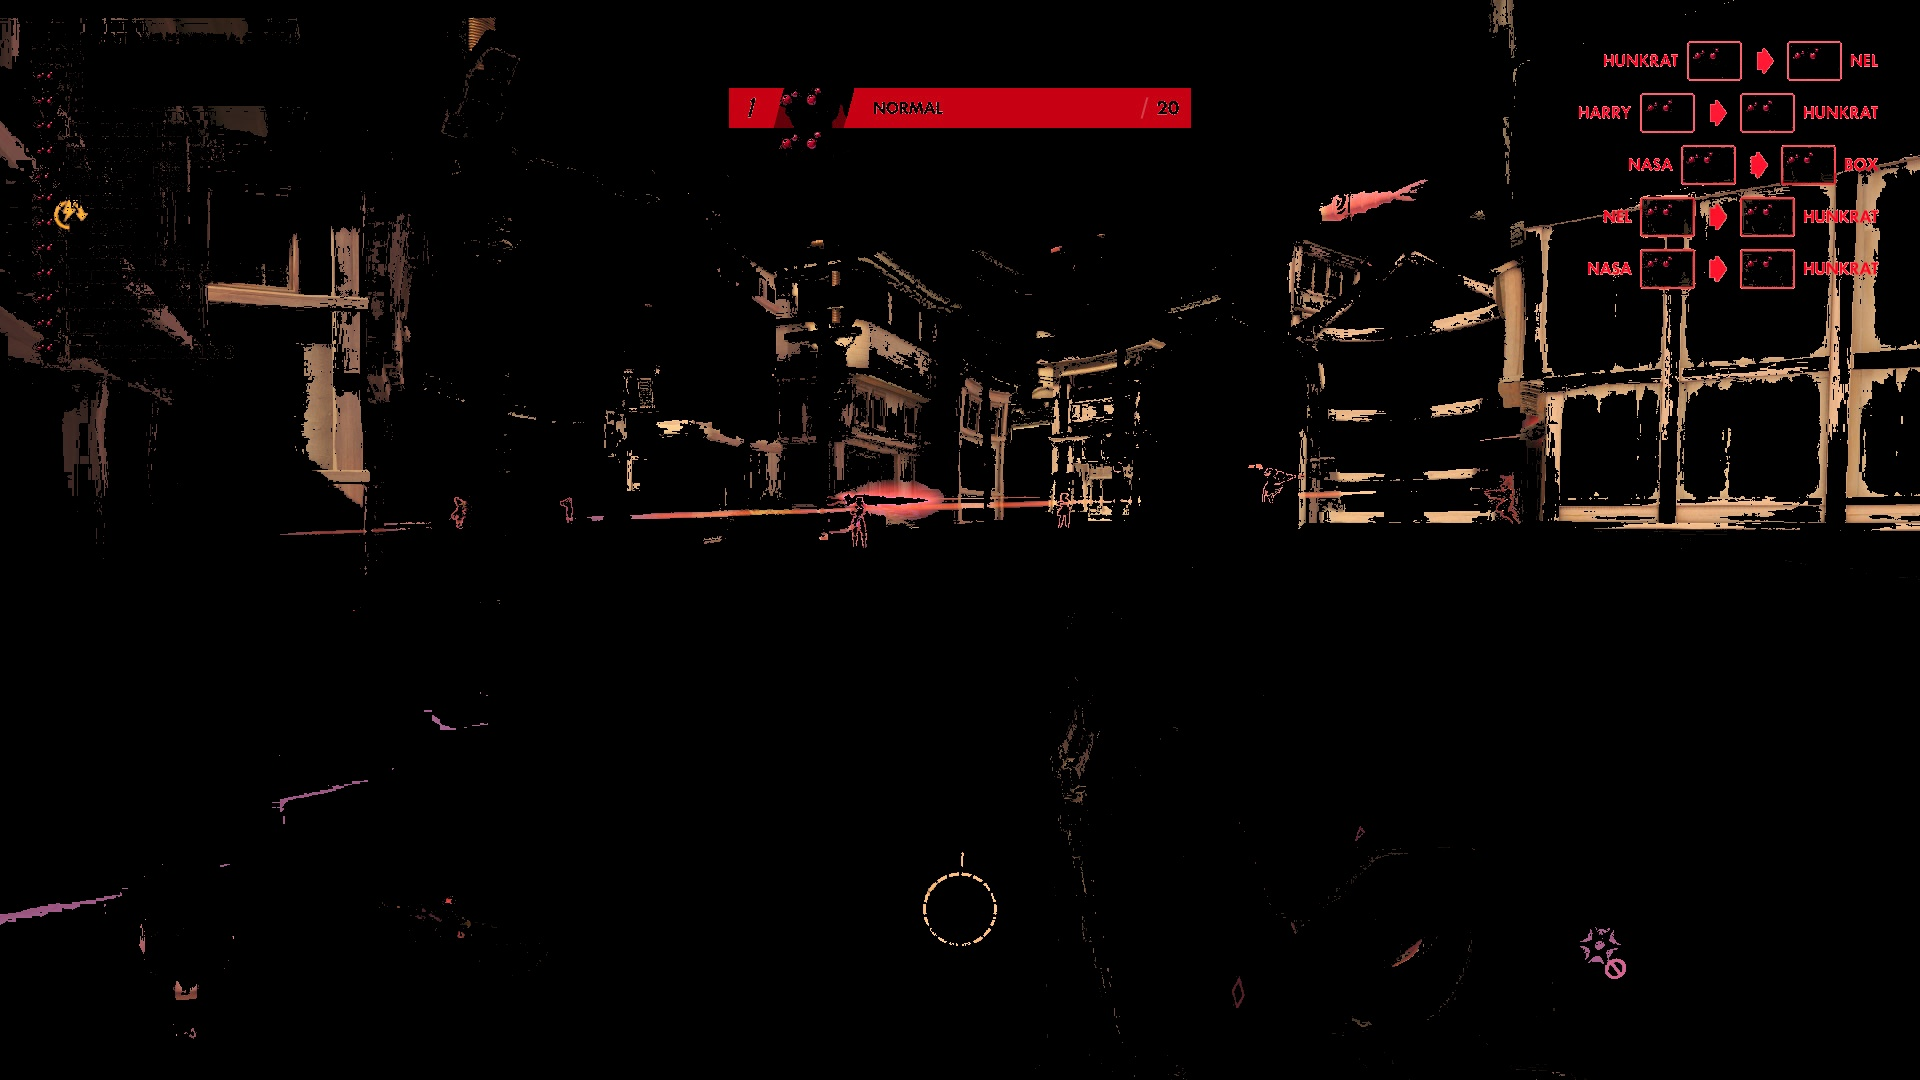widowmaker: (1486, 476, 1523, 527), (1258, 464, 1299, 506), (848, 495, 872, 558), (1054, 491, 1077, 534), (451, 495, 471, 533), (559, 495, 579, 529)
